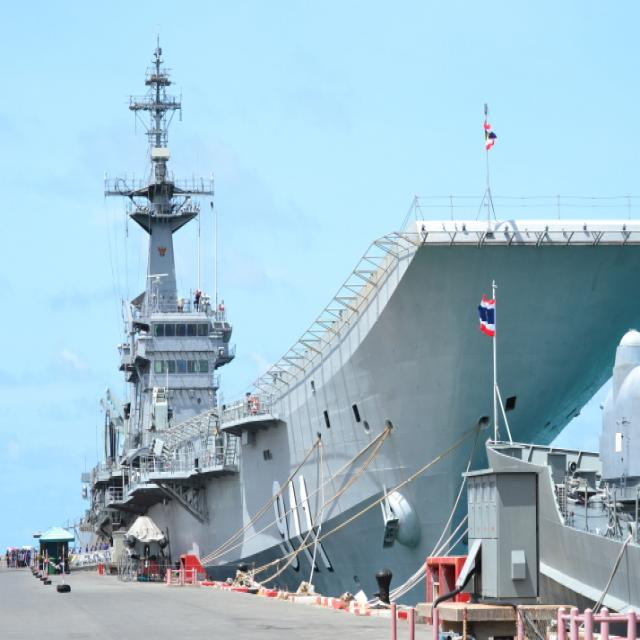Portanaves: (79, 20, 640, 627)
